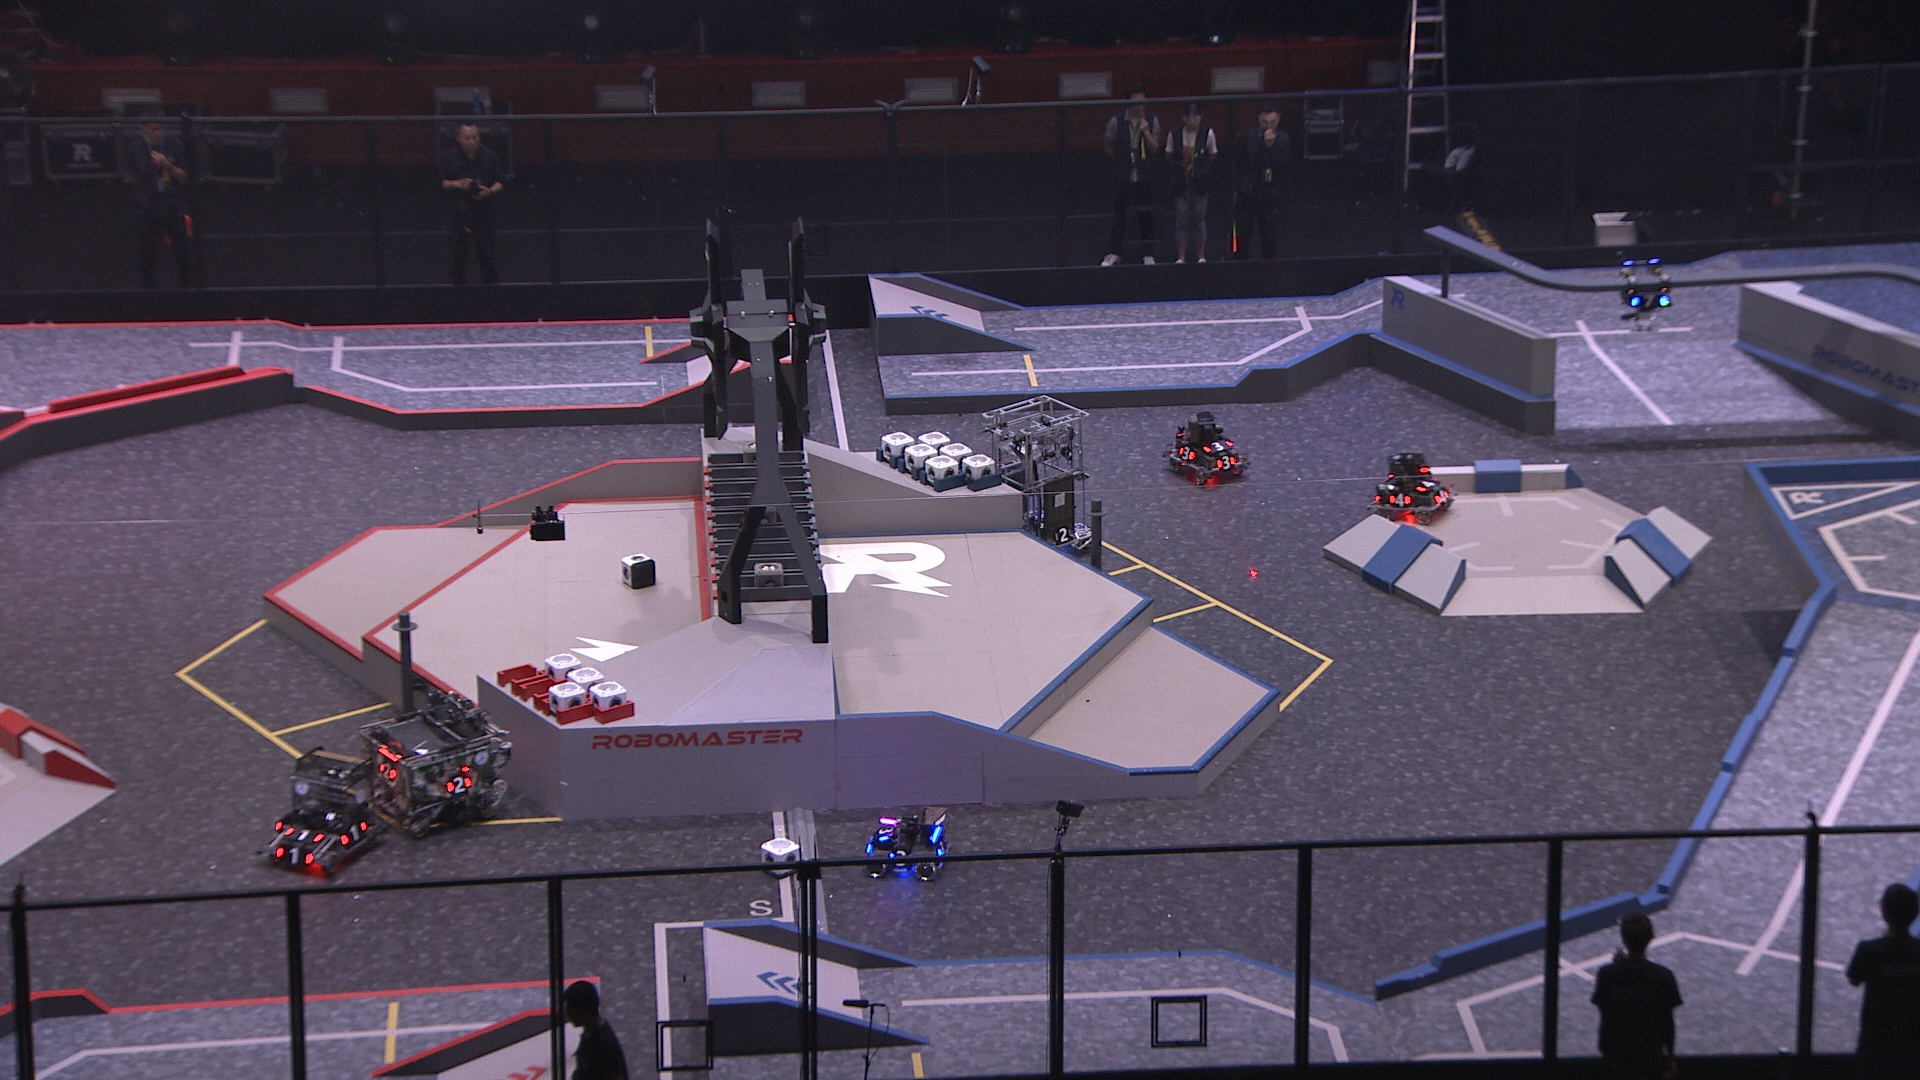armor: (273, 843, 313, 873), (334, 818, 368, 847), (1629, 290, 1673, 309), (284, 823, 323, 843), (443, 770, 472, 796), (1203, 434, 1236, 452), (1050, 524, 1076, 546), (376, 757, 400, 781), (885, 847, 910, 869), (1385, 491, 1414, 509), (1176, 442, 1199, 465), (1414, 473, 1437, 495), (1216, 452, 1238, 472), (874, 822, 893, 845), (1433, 485, 1452, 508), (932, 836, 949, 860)
car: (352, 688, 512, 841), (978, 396, 1096, 564), (253, 749, 384, 874), (862, 802, 951, 884), (1361, 450, 1455, 524), (1162, 410, 1245, 484)
watcher: (1614, 247, 1676, 330)
